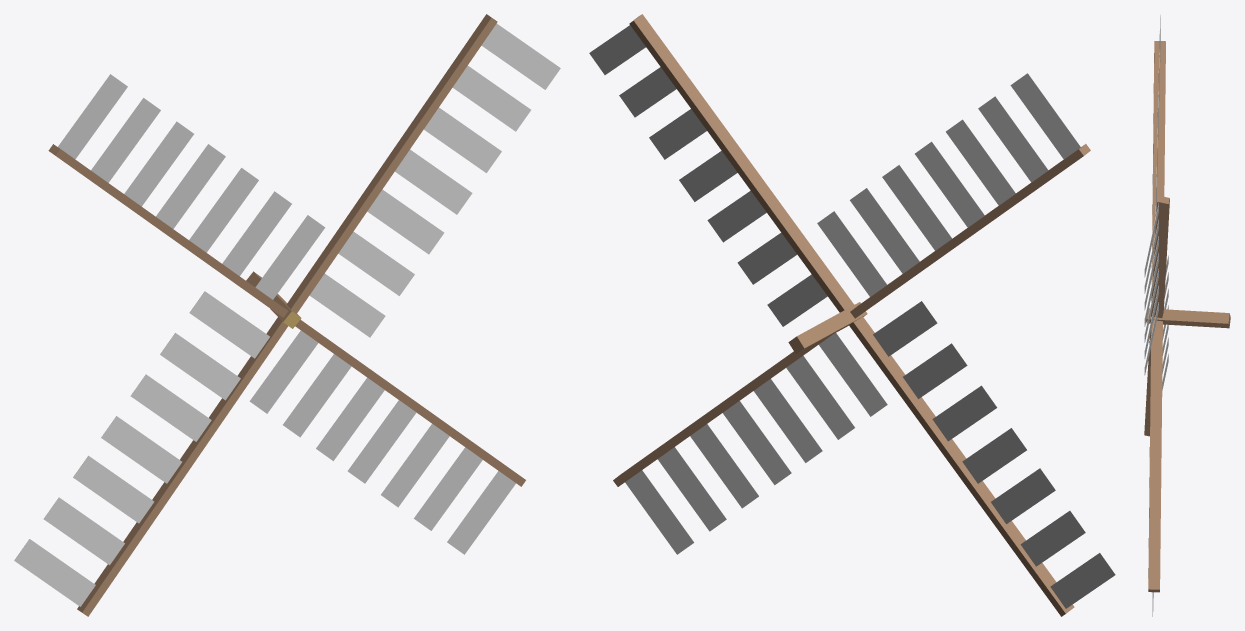
File: propeller.dae
The picture shows the model from 3 angles, left to right: view 1: azimuth 30°, elevation 25°; view 2: azimuth 150°, elevation 25°; view 3: azimuth 270°, elevation 25°; orthographic projection. The views are drawn at different scales.
Visible parts, largest first — view 1: Cube_1, Cube_2, Cube_16, Cube_15, Cube_14, Cube_13, Cube_12_2, Cube_11_2, Cube_10_2, Cube_3_4, Cube_4_4, Cube_5_2 (+18 smaller); view 2: Cube_1, Cube_2, Cube_29, Cube_30, Cube_28, Cube_27, Cube_25, Cube_24, Cube_26, Cube_18, Cube_17, Cube_19 (+19 smaller); view 3: Cube_2, Cube_1, Cube, Cube_3_4, Cube_5_2, Cube_4_4, Cube_6_2, Cube_8_2, Cube_9_2, Cube_7_2.
Part boxes in pixels (x1=…): Cube_1: x1=77, y1=14, x2=497, y2=616; Cube_2: x1=48, y1=144, x2=525, y2=486; Cube_16: x1=14, y1=539, x2=95, y2=606; Cube_15: x1=43, y1=497, x2=124, y2=565; Cube_14: x1=73, y1=455, x2=154, y2=523; Cube_13: x1=101, y1=416, x2=181, y2=483; Cube_12_2: x1=130, y1=374, x2=211, y2=441; Cube_11_2: x1=160, y1=333, x2=240, y2=400; Cube_10_2: x1=189, y1=291, x2=269, y2=358; Cube_3_4: x1=481, y1=23, x2=560, y2=89; Cube_4_4: x1=452, y1=66, x2=530, y2=131; Cube_5_2: x1=424, y1=107, x2=501, y2=172; Cube_1: x1=629, y1=14, x2=1074, y2=616; Cube_2: x1=613, y1=144, x2=1090, y2=486; Cube_29: x1=978, y1=96, x2=1048, y2=182; Cube_30: x1=1010, y1=73, x2=1080, y2=159; Cube_28: x1=946, y1=119, x2=1015, y2=205; Cube_27: x1=915, y1=141, x2=984, y2=227; Cube_25: x1=850, y1=188, x2=919, y2=273; Cube_24: x1=817, y1=211, x2=887, y2=296; Cube_26: x1=882, y1=165, x2=952, y2=250; Cube_18: x1=657, y1=447, x2=726, y2=531; Cube_17: x1=625, y1=470, x2=694, y2=554; Cube_19: x1=690, y1=424, x2=758, y2=508; Cube_2: x1=1148, y1=41, x2=1165, y2=592; Cube_1: x1=1144, y1=195, x2=1169, y2=436; Cube: x1=1146, y1=308, x2=1230, y2=328; Cube_3_4: x1=1144, y1=203, x2=1158, y2=277; Cube_5_2: x1=1144, y1=236, x2=1158, y2=310; Cube_4_4: x1=1144, y1=219, x2=1158, y2=293; Cube_6_2: x1=1144, y1=253, x2=1158, y2=326; Cube_8_2: x1=1144, y1=285, x2=1158, y2=358; Cube_9_2: x1=1144, y1=302, x2=1158, y2=375; Cube_7_2: x1=1144, y1=269, x2=1158, y2=342.
Bounding box in the file's own units: 2.51 × 0.4292 × 2.53.
